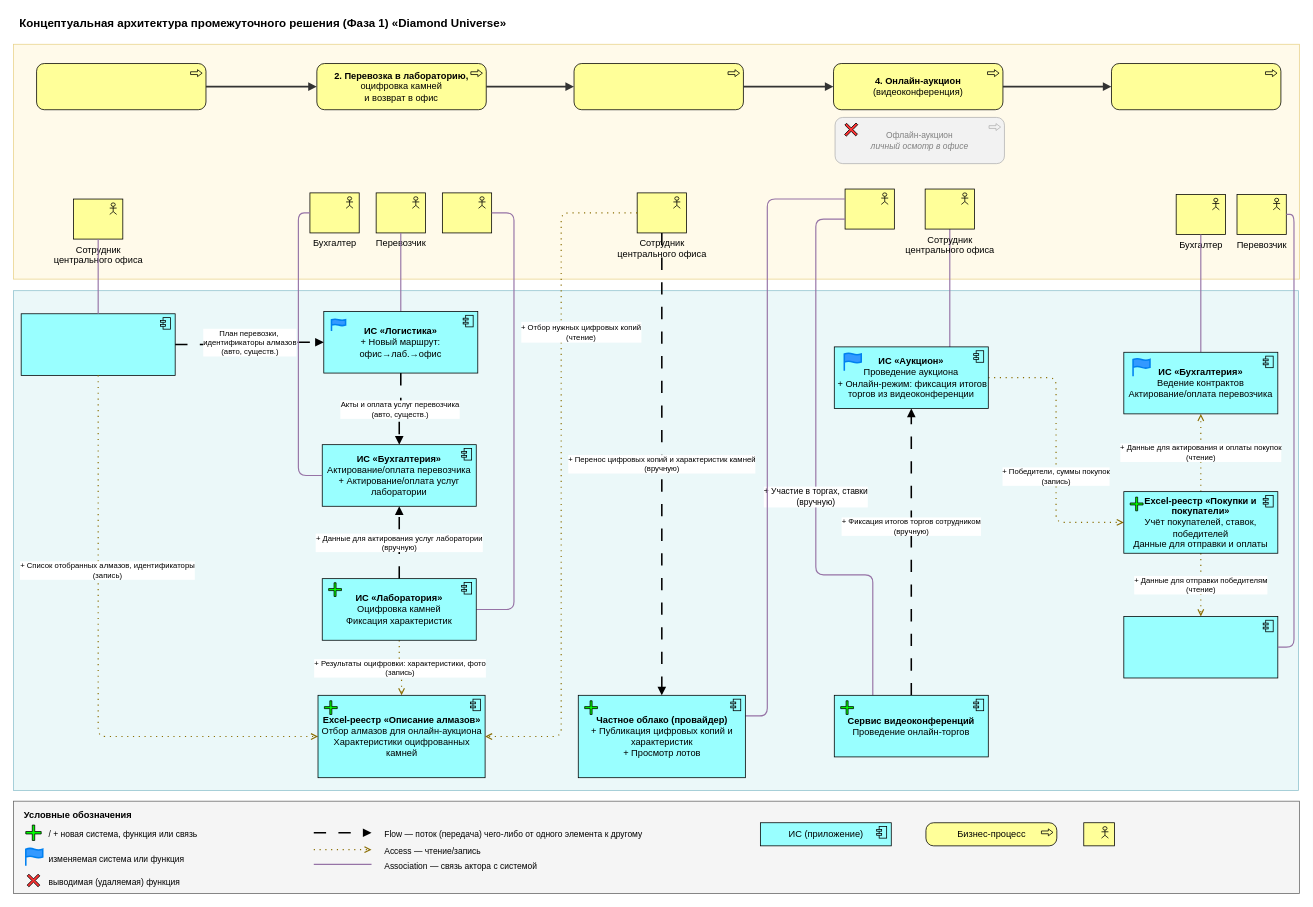
Some shapes in this 1313 by 907 pixel diagram are drawn without their labels. Each missing label, with the centre of its shape:
1. Отбор алмазов для онлайн-продажи в центральном офисе: the point at 121,86
3. Публикация данных для покупателей: the point at 658,86
5. Отправка камней победителям торгов из офиса: the point at 1196,86
Бизнес-роль: the point at 1099,834
ИС «Алмазы» Планирование работ Присвоение идентификаторов Подготовка ведомостей: the point at 97,344
ИС «Логистика» Перевозка камней покупателям: the point at 1200,647
Покупатель: the point at 869,208
Эксперт лаборатории: the point at 467,212
